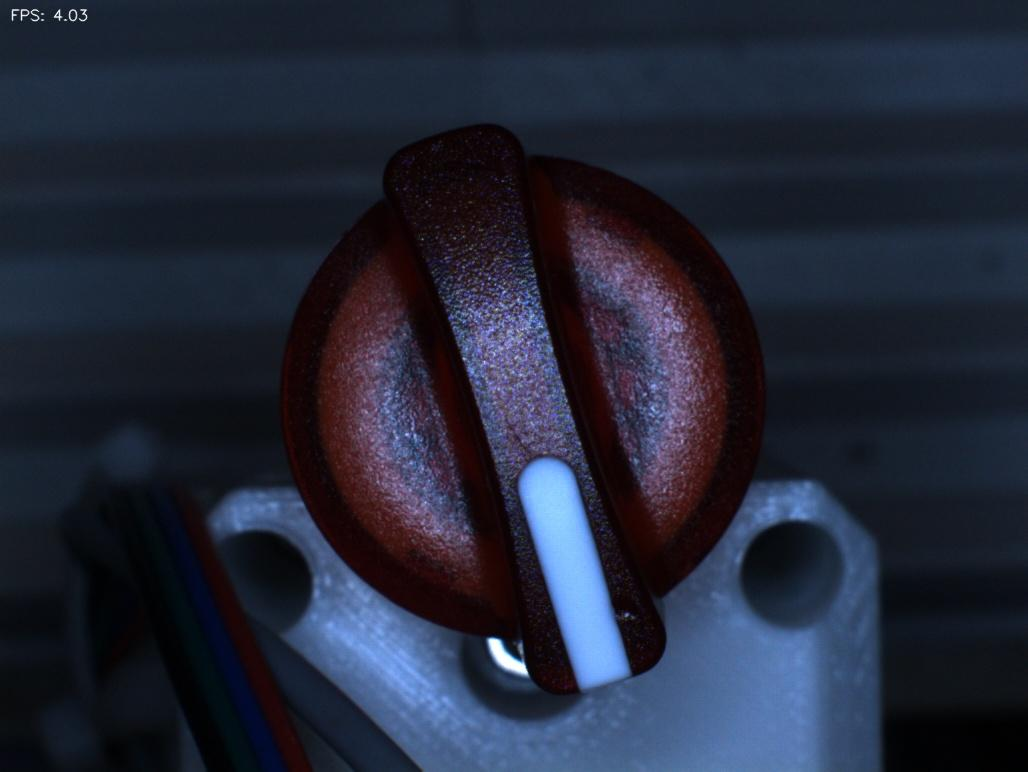Choc: (574, 570, 672, 646)
